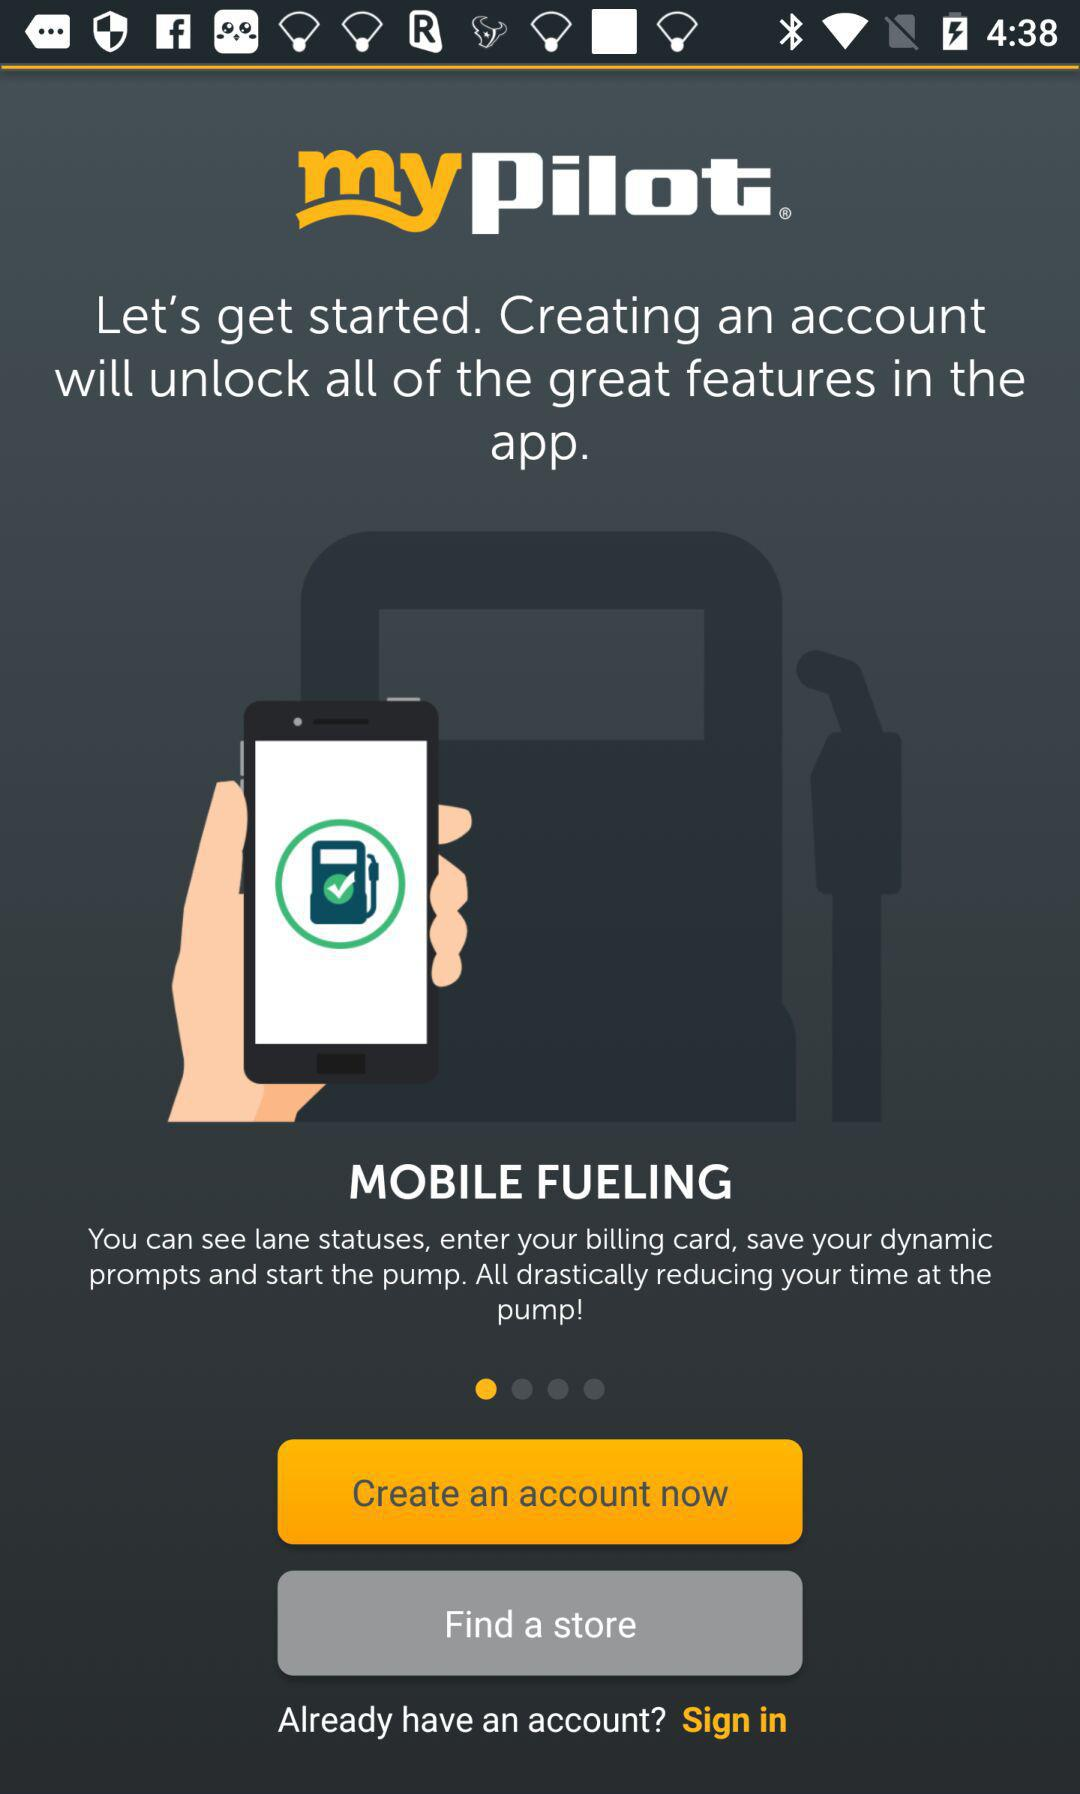Image: (167, 529, 902, 1123), (295, 149, 793, 237)
PageIndicator: (474, 1378, 607, 1402)
Text: (54, 293, 1026, 473), (87, 1228, 993, 1326), (277, 1704, 667, 1741), (350, 1164, 732, 1201), (682, 1706, 788, 1741)
TextButton: (277, 1570, 805, 1677), (277, 1439, 805, 1545)
UpperTaskBar: (1, 1, 1080, 64)
